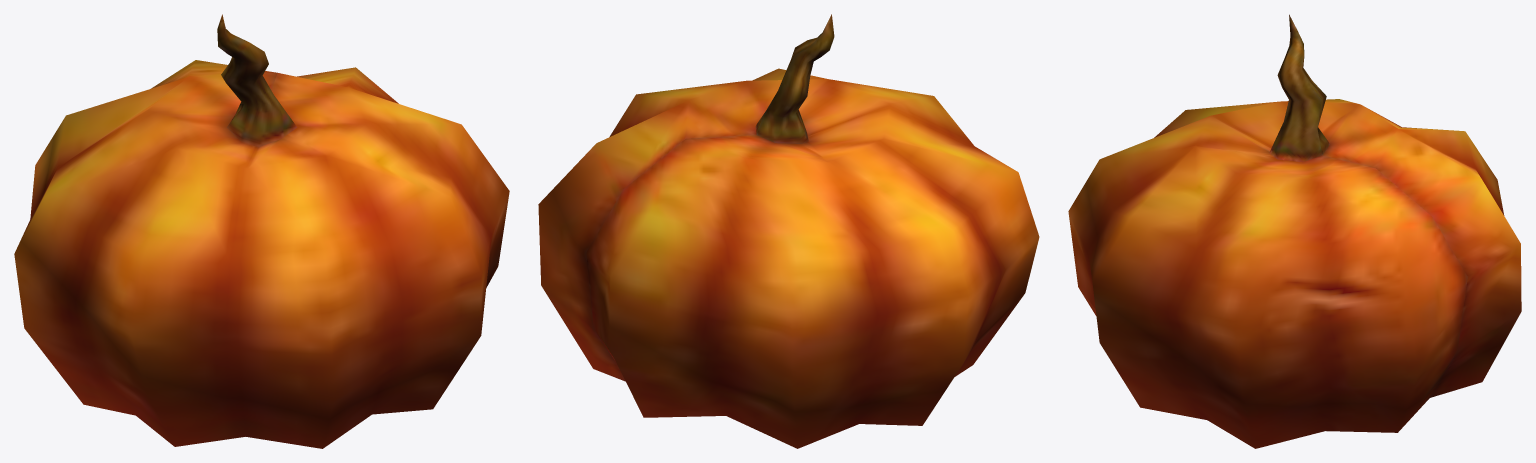
The model's file is SM_pumpkin_01.gltf.
The picture shows the model from 3 angles, left to right: view 1: azimuth 30°, elevation 25°; view 2: azimuth 150°, elevation 25°; view 3: azimuth 270°, elevation 25°; orthographic projection. The views are drawn at different scales.
Visible parts, largest first — view 1: SM_pumpkin_01; view 2: SM_pumpkin_01; view 3: SM_pumpkin_01.
Part boxes in pixels (left/top/right/bottom): SM_pumpkin_01: left=14, top=14, right=509, bottom=448; SM_pumpkin_01: left=538, top=14, right=1039, bottom=448; SM_pumpkin_01: left=1068, top=14, right=1521, bottom=448.
Size of the model in its own units: 0.4145 by 0.3708 by 0.4108.
Materials: 1 (1 with a texture image).
